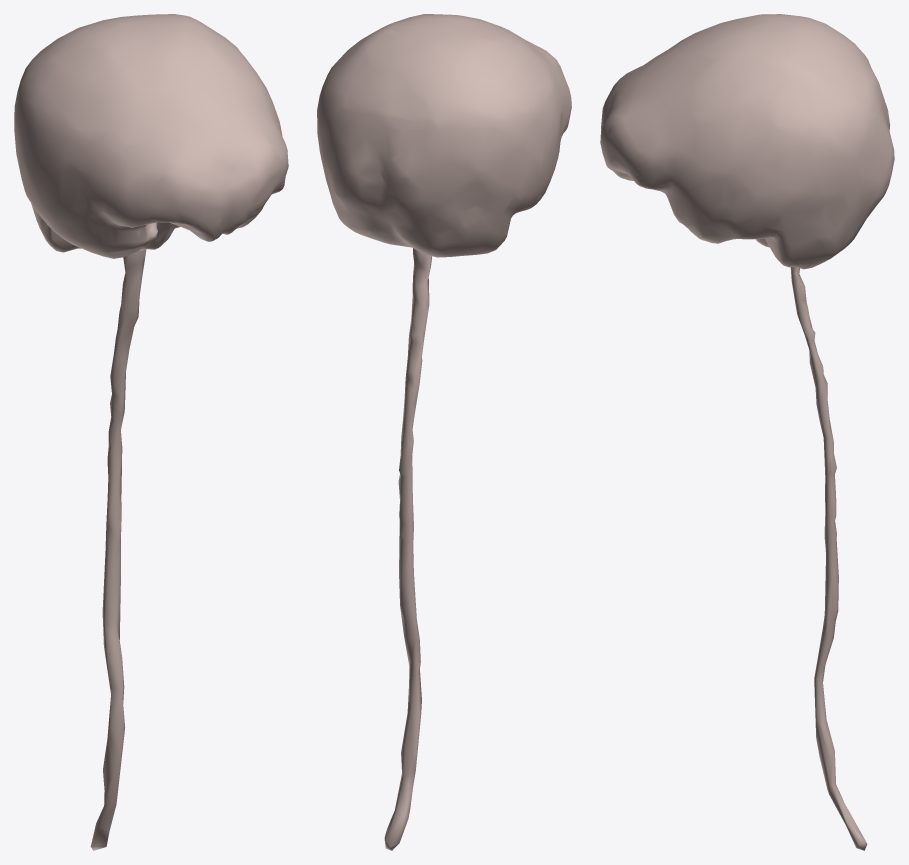
Rendered from pediatric_infant_female.nervous.LOD1.glb.
The picture shows the model from 3 angles, left to right: view 1: azimuth 30°, elevation 25°; view 2: azimuth 150°, elevation 25°; view 3: azimuth 270°, elevation 25°; orthographic projection. The views are drawn at different scales.
Parts seen in each view (by area): view 1: PEDIATRIC.INFANT.FEMALE.NERVOUS.BRAIN, PEDIATRIC.INFANT.FEMALE.NERVOUS.SPINAL_CORD; view 2: PEDIATRIC.INFANT.FEMALE.NERVOUS.BRAIN, PEDIATRIC.INFANT.FEMALE.NERVOUS.SPINAL_CORD; view 3: PEDIATRIC.INFANT.FEMALE.NERVOUS.BRAIN, PEDIATRIC.INFANT.FEMALE.NERVOUS.SPINAL_CORD.
Boxes of the visible parts, x1,y1,x2,y2 form: PEDIATRIC.INFANT.FEMALE.NERVOUS.BRAIN: (14,14,288,258); PEDIATRIC.INFANT.FEMALE.NERVOUS.SPINAL_CORD: (90,249,146,850); PEDIATRIC.INFANT.FEMALE.NERVOUS.BRAIN: (317,14,571,257); PEDIATRIC.INFANT.FEMALE.NERVOUS.SPINAL_CORD: (384,248,431,850); PEDIATRIC.INFANT.FEMALE.NERVOUS.BRAIN: (600,14,894,269); PEDIATRIC.INFANT.FEMALE.NERVOUS.SPINAL_CORD: (790,267,867,850).
Bounding box in the file's own units: 0.1223 × 0.4377 × 0.1426.
